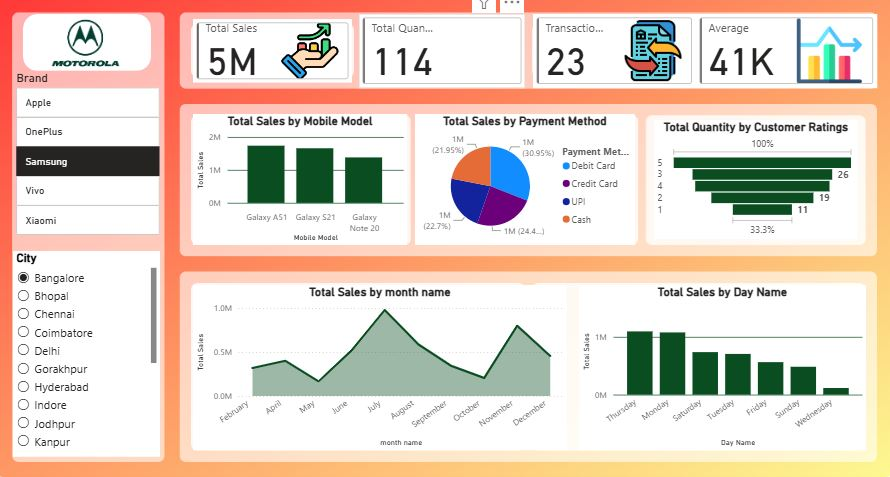

The dashboard page shown, as its layout file describes it:
{"tool":"powerbi","page":{"name":"Page 2","canvas":[1280,720],"ordinal":0},"visuals":[{"type":"cardVisual","fields":{"Data":["Sales_Data.Transactions"]},"box":[754.2,38.5,245,106],"z":0},{"type":"cardVisual","fields":{"Data":["Sales_Data.Average"]},"box":[998.6,38.6,258.6,105.7],"z":2000},{"type":"cardVisual","fields":{"Data":["Sales_Data.Total Quantity"]},"box":[517.1,38.6,237.1,105.7],"z":2500},{"type":"advancedSlicerVisual","fields":{"Values":["Sales_Data.Brand"]},"box":[22.9,120,214.3,240],"z":3000},{"type":"listSlicer","fields":{"Values":["Sales_Data.City"]},"box":[22.9,377.1,210,294.3],"z":4000},{"type":"lineStackedColumnComboChart","fields":{"Category":["Sales_Data.Day Name"],"Y":["Sales_Data.Total Sales"]},"box":[831.4,425.7,410,235.7],"z":5000},{"type":"funnel","fields":{"Category":["Sales_Data.Customer Ratings"],"Y":["Sales_Data.Total Quantity"]},"box":[938.6,190,291.4,170],"z":6000},{"type":"pieChart","fields":{"Category":["Sales_Data.Payment Method"],"Y":["Sales_Data.Total Sales"]},"box":[597.1,181.4,314.3,187.1],"z":7000},{"type":"clusteredColumnChart","fields":{"Category":["Sales_Data.Mobile Model"],"Y":["Sales_Data.Total Sales"]},"box":[280,181.4,306,187],"z":8000},{"type":"shape","box":[37.1,38.6,182.9,81.4],"z":9000},{"type":"areaChart","fields":{"Category":["Sales_Data.month name "],"Y":["Sales_Data.Total Sales"]},"box":[280,425.7,534.3,235.7],"z":10000},{"type":"image","box":[61.4,30,130,100],"z":11000},{"type":"cardVisual","fields":{"Data":["Sales_Data.Total Sales"]},"box":[256,41.3,261.5,97.7],"z":13500}]}

Visuals, with their boxes on the page's 1280x720 design canvas (x1, y1, x2, y2). These are canvas units, not pixel positions in the 890x477 screenshot, which may show the page scaled, cropped or inside an application window:
cardVisual - Sales_Data.Transactions: <region>754, 38, 999, 144</region>
cardVisual - Sales_Data.Average: <region>999, 39, 1257, 144</region>
cardVisual - Sales_Data.Total Quantity: <region>517, 39, 754, 144</region>
advancedSlicerVisual - Sales_Data.Brand: <region>23, 120, 237, 360</region>
listSlicer - Sales_Data.City: <region>23, 377, 233, 671</region>
lineStackedColumnComboChart - Sales_Data.Day Name x Sales_Data.Total Sales: <region>831, 426, 1241, 661</region>
funnel - Sales_Data.Customer Ratings x Sales_Data.Total Quantity: <region>939, 190, 1230, 360</region>
pieChart - Sales_Data.Payment Method x Sales_Data.Total Sales: <region>597, 181, 911, 368</region>
clusteredColumnChart - Sales_Data.Mobile Model x Sales_Data.Total Sales: <region>280, 181, 586, 368</region>
shape: <region>37, 39, 220, 120</region>
areaChart - Sales_Data.month name  x Sales_Data.Total Sales: <region>280, 426, 814, 661</region>
image: <region>61, 30, 191, 130</region>
cardVisual - Sales_Data.Total Sales: <region>256, 41, 518, 139</region>
